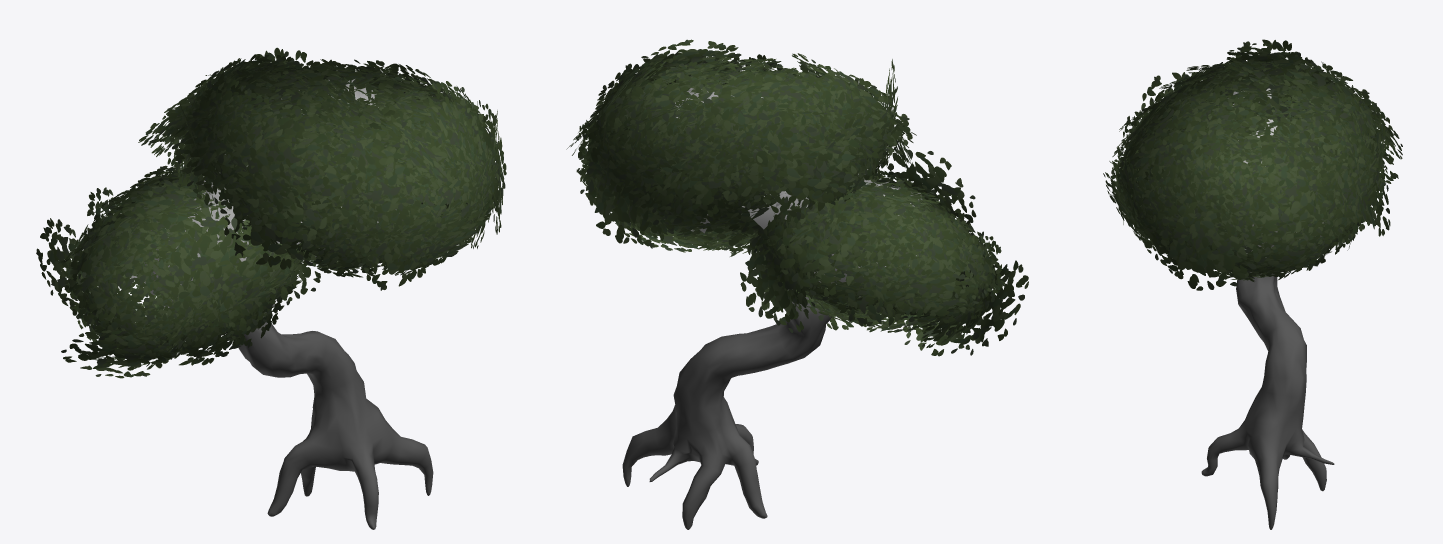
File: Tree1_b.fbx
The picture shows the model from 3 angles, left to right: view 1: azimuth 30°, elevation 25°; view 2: azimuth 150°, elevation 25°; view 3: azimuth 270°, elevation 25°; orthographic projection. The views are drawn at different scales.
Parts seen in each view (by area): view 1: Tree1_Canopy01, Tree1_LOD0; view 2: Tree1_Canopy01, Tree1_LOD0; view 3: Tree1_Canopy01, Tree1_LOD0.
Part boxes in pixels (x1,y1,x2,y2): Tree1_Canopy01: (36, 47, 506, 378); Tree1_LOD0: (131, 79, 433, 529); Tree1_Canopy01: (566, 39, 1028, 356); Tree1_LOD0: (622, 88, 922, 529); Tree1_Canopy01: (1103, 39, 1402, 290); Tree1_LOD0: (1201, 88, 1334, 529).
Bounding box in the file's own units: 1093 × 1057 × 777.
